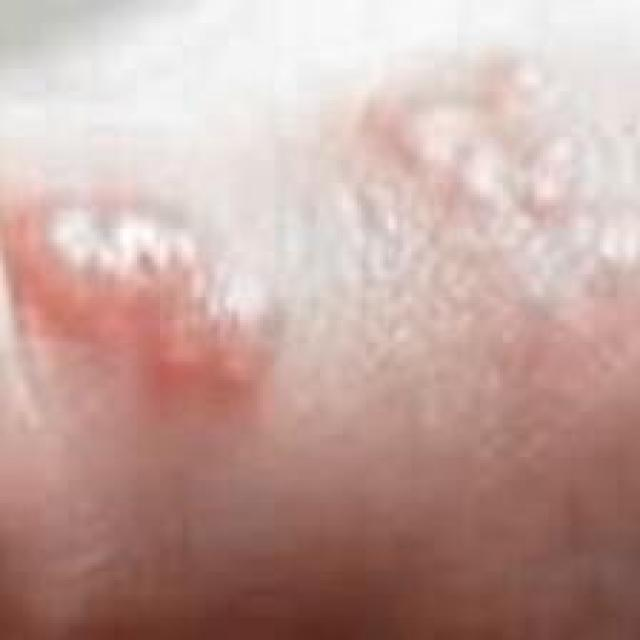monkeypox: (42, 66, 624, 638)
